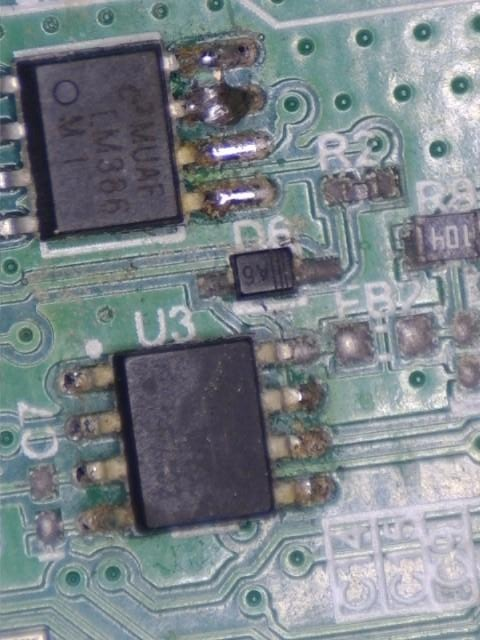pcb_defect: (401, 211, 480, 271)
